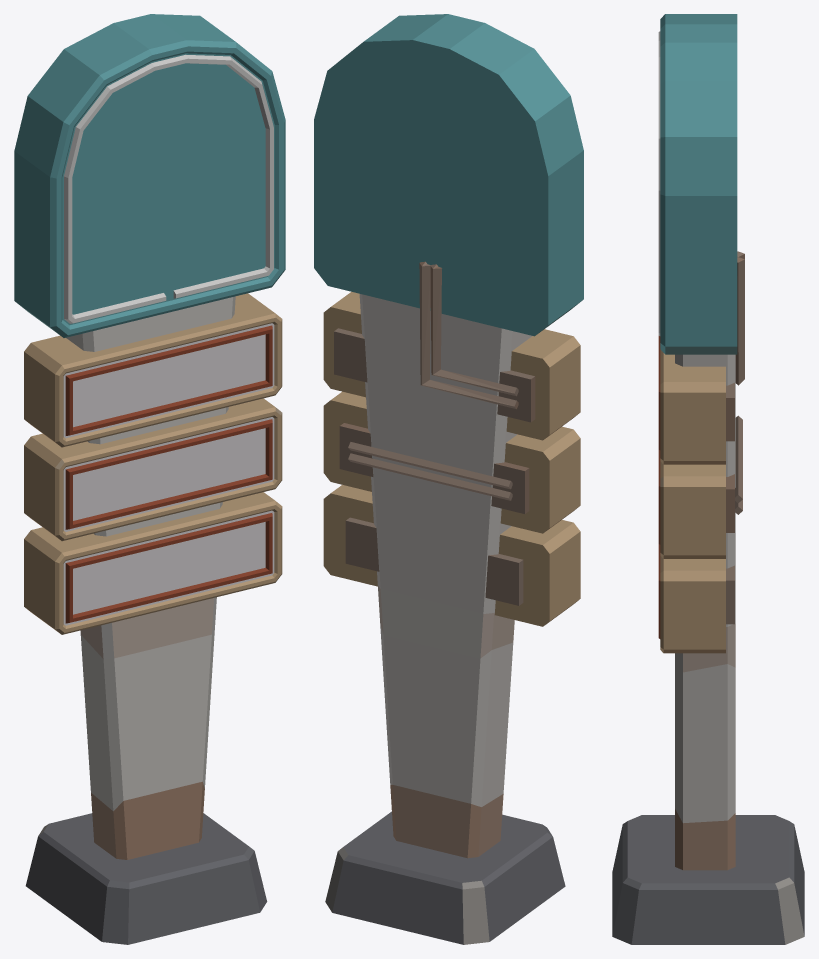
Rendered from price-sign-pylon-0305a8.glb.
3 views of the same model, side by side, from view 1: azimuth 30°, elevation 25°; view 2: azimuth 150°, elevation 25°; view 3: azimuth 270°, elevation 25° (orthographic).
Visible parts, largest first — view 1: price-sign-pylon-body; view 2: price-sign-pylon-body; view 3: price-sign-pylon-body.
Boxes of the visible parts, x1,y1,x2,y2 form: price-sign-pylon-body: [14, 14, 285, 944]; price-sign-pylon-body: [314, 14, 583, 944]; price-sign-pylon-body: [612, 14, 804, 944].
Bounding box in the file's own units: 1.71 × 6 × 1.2.
